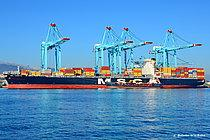Ship: (1, 61, 207, 92)
